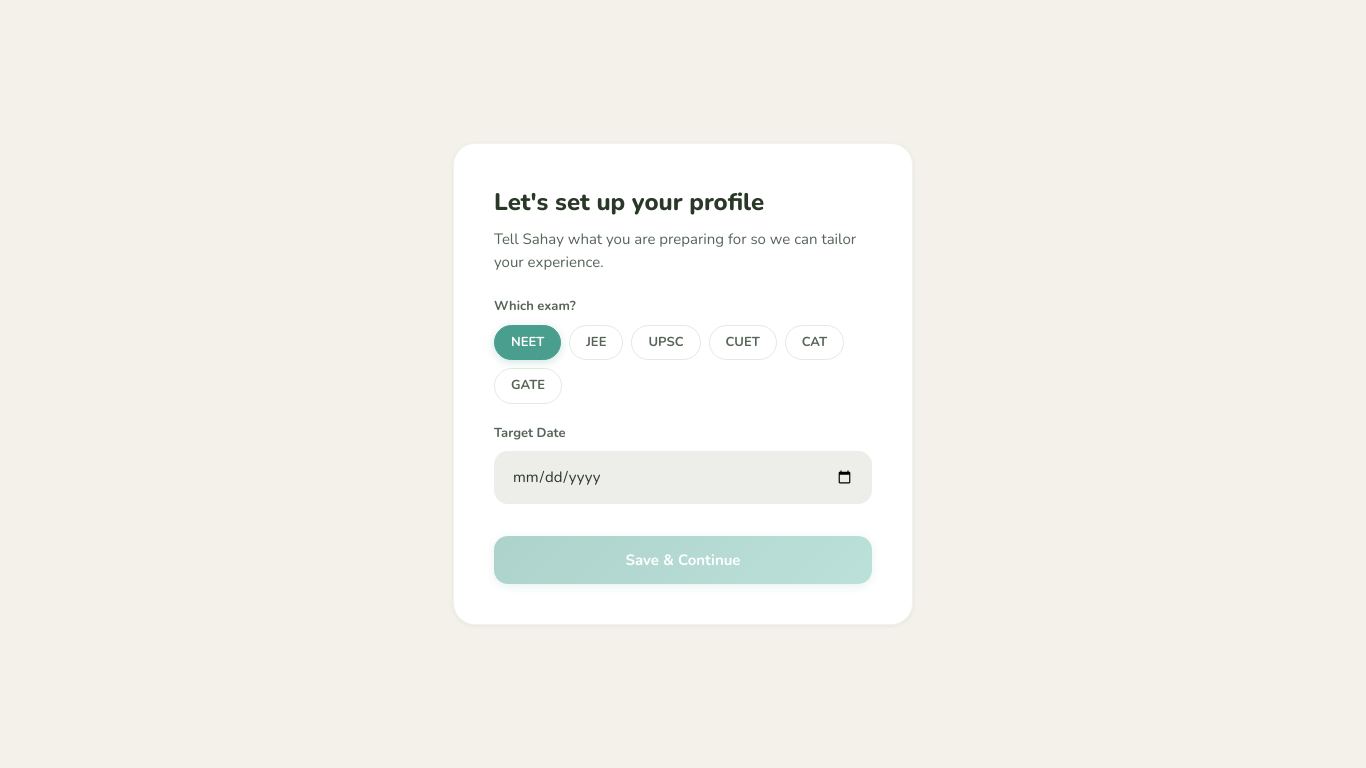
it: SahayApp Main Dashboard › allows completing the setup screen and moves to dashboard
This screenshot has width=1366, height=768.
Expected: the text "Which exam?" is shown, x1=494 y1=297 x2=576 y2=315
# Select JEE exam chip
Click the button "JEE" at (596, 342), box x1=569 y1=324 x2=623 y2=360
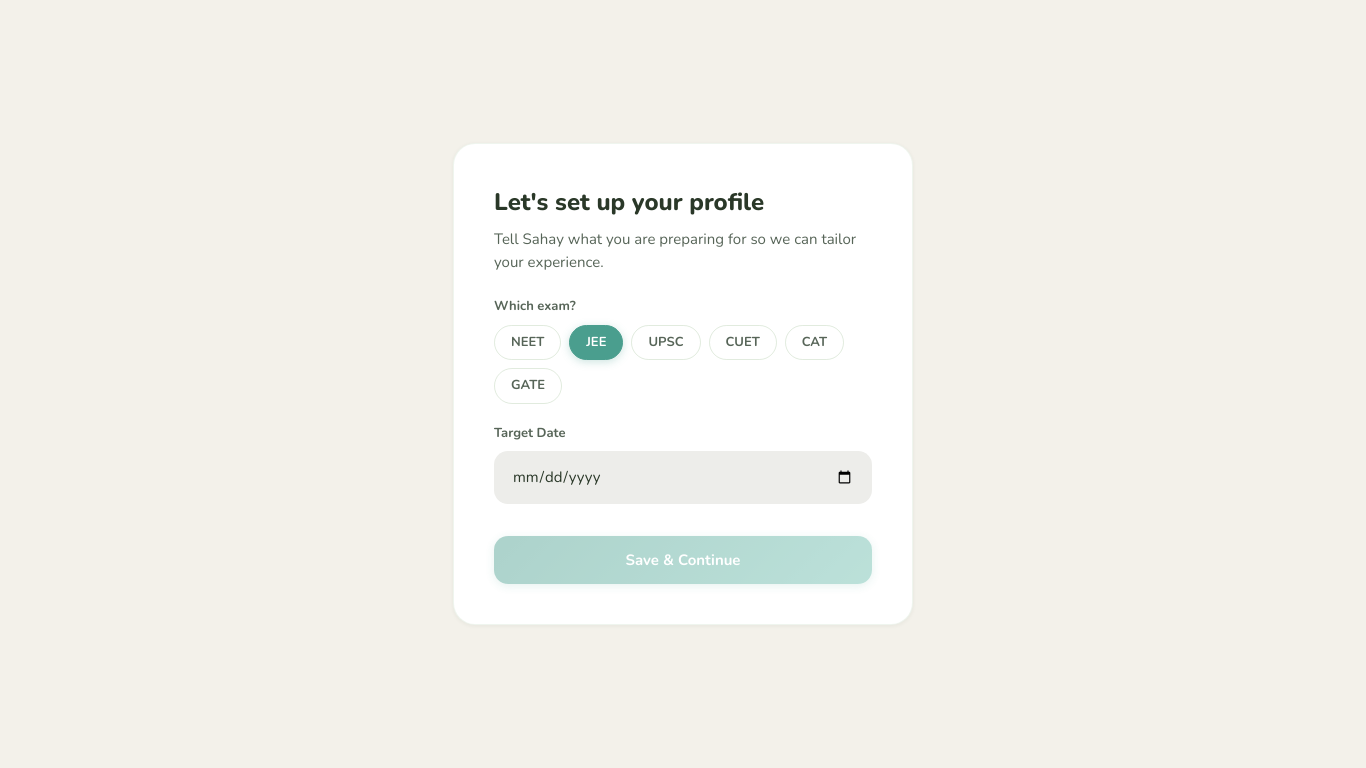
Type "2027-01-01" into the date field at (683, 477), box x1=494 y1=451 x2=872 y2=504
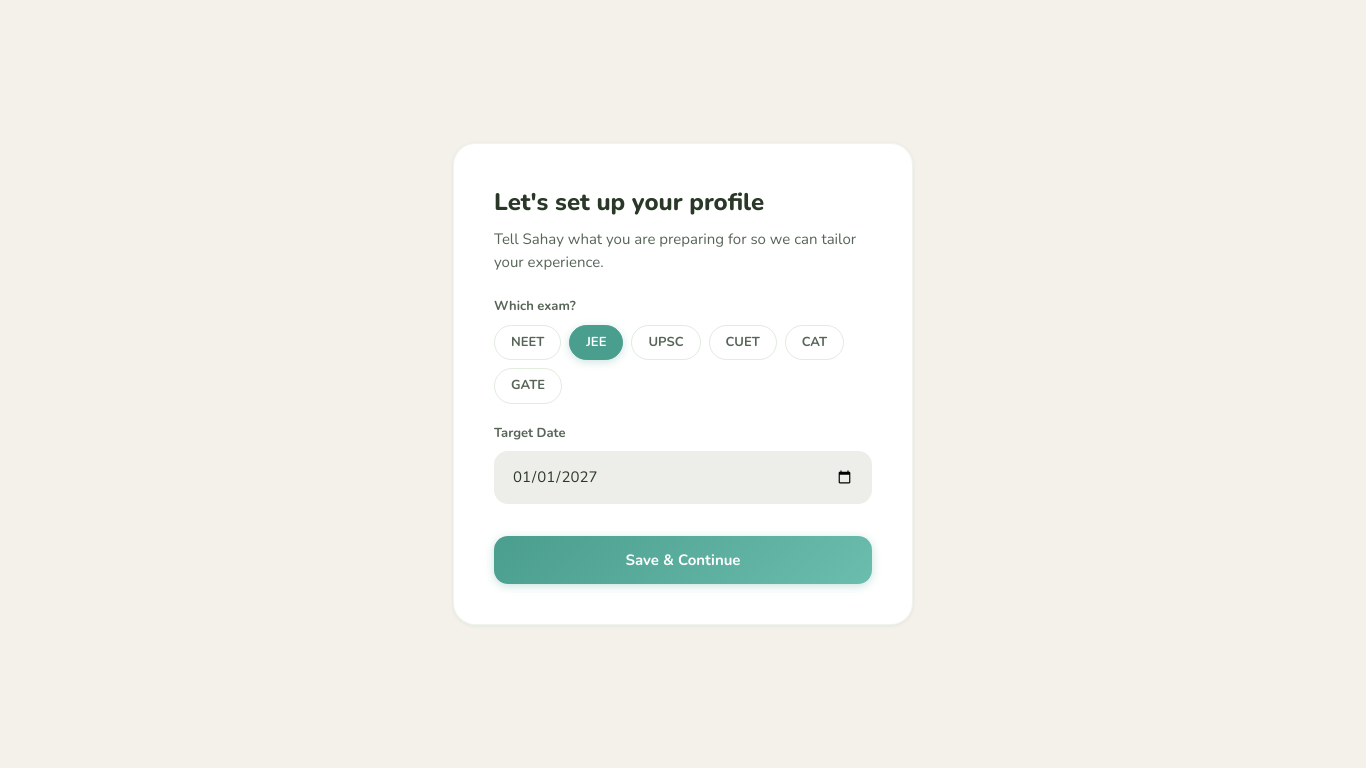
Click the button "Save & Continue" at (683, 560), box x1=494 y1=536 x2=872 y2=584
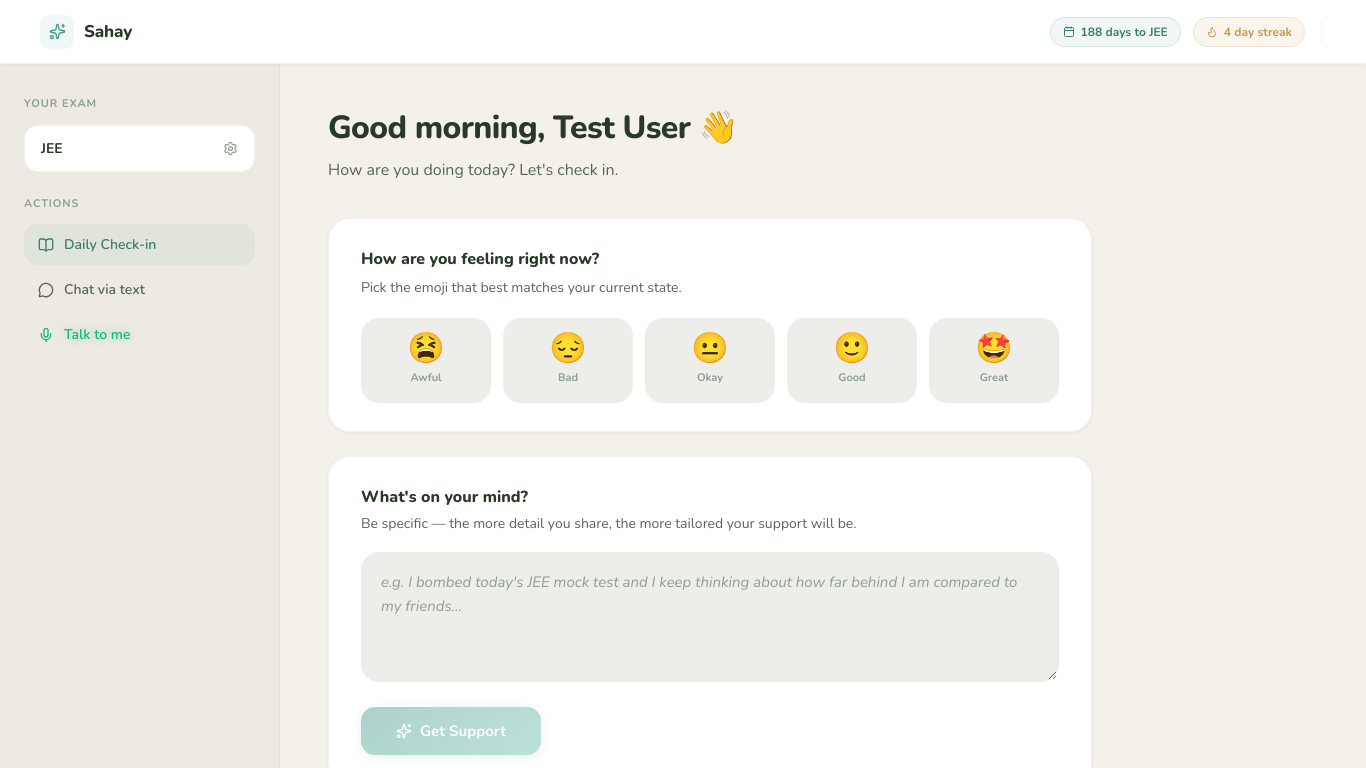
Expected: the text "JEE" is shown, x1=41 y1=138 x2=63 y2=158
